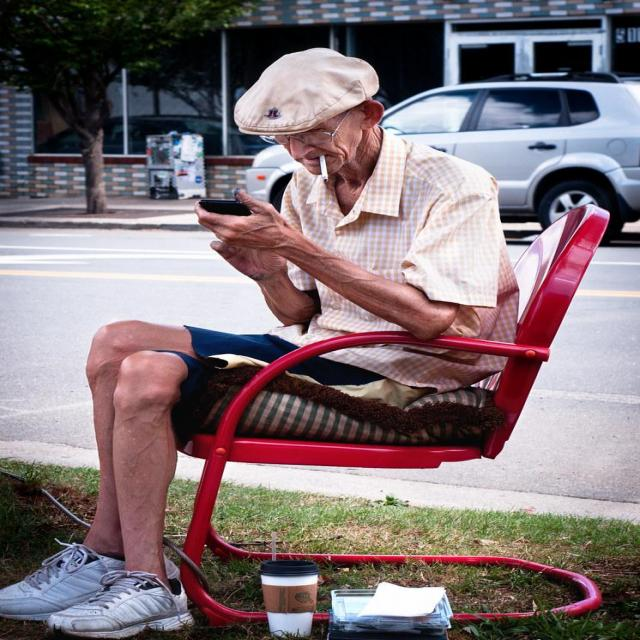Сигарета: (318, 154, 332, 182)
Тело: (20, 48, 514, 633)
